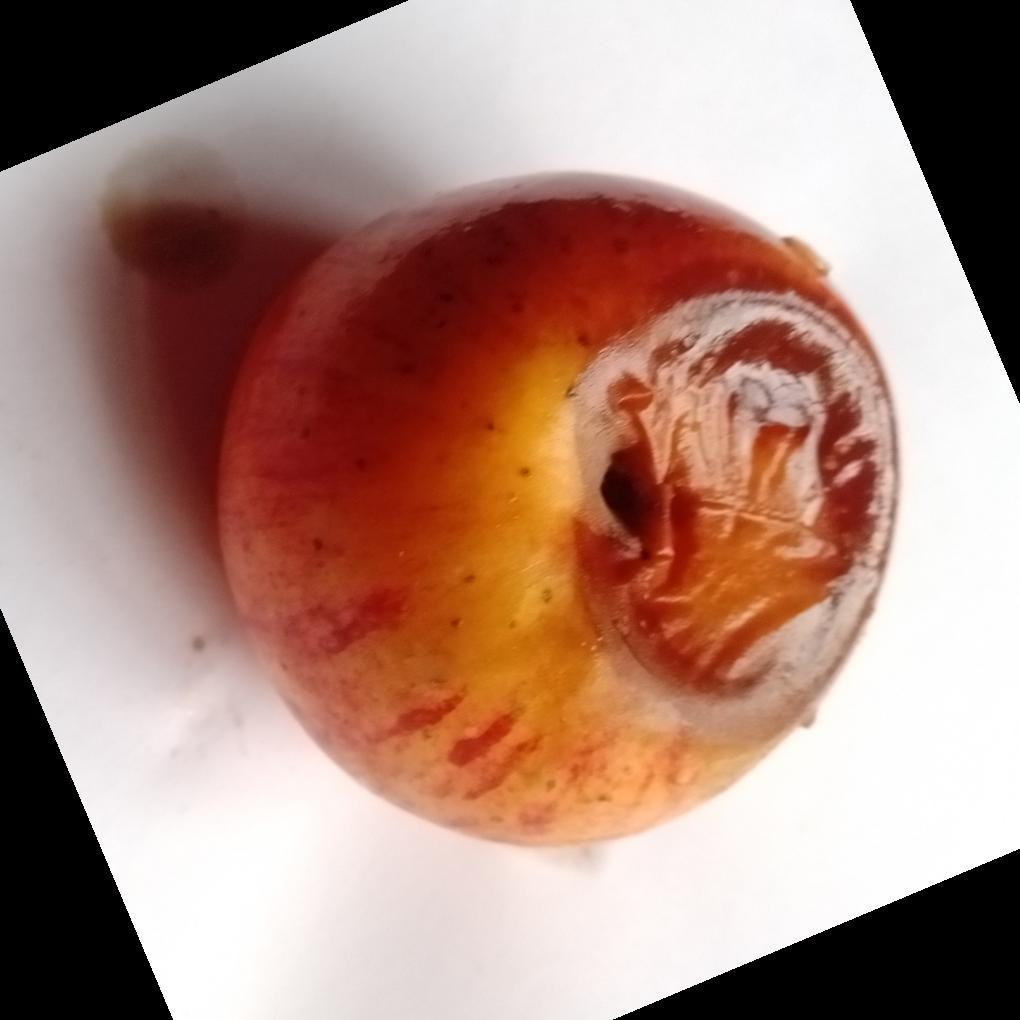FreshOrange: (211, 172, 902, 854)
